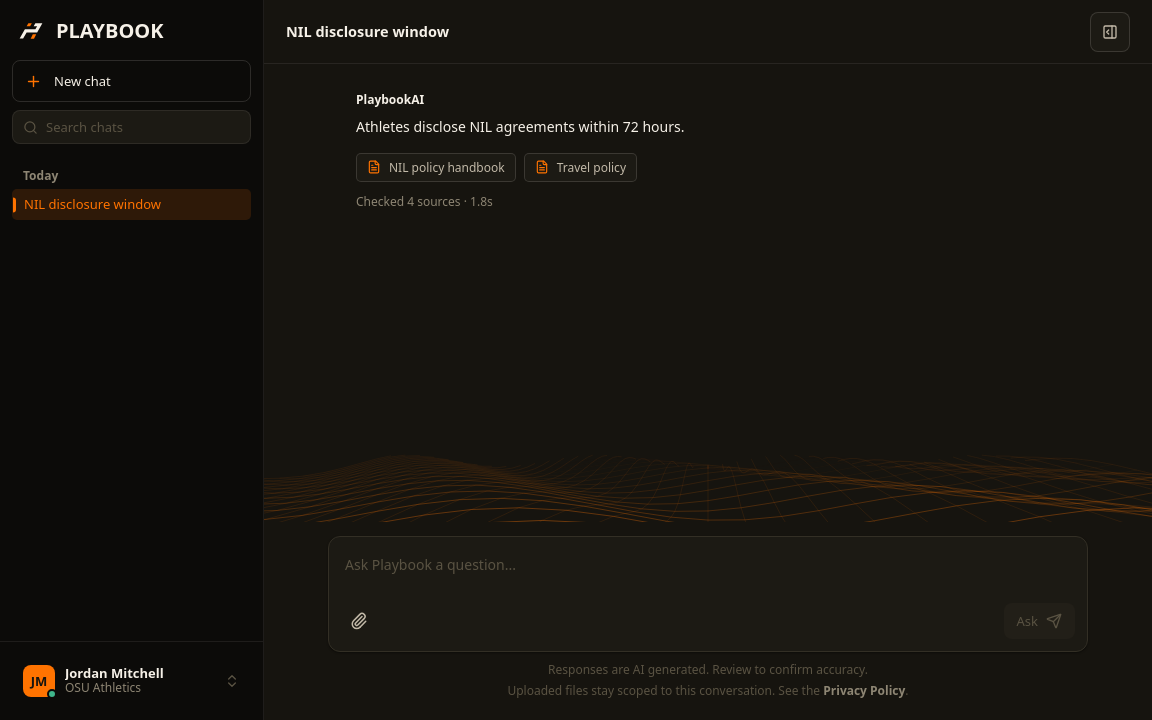
Test: ChatShell › selects citations without opening sources until the expand button is clicked
Click the button "Travel policy": x=580, y=167 [524,153,637,182]
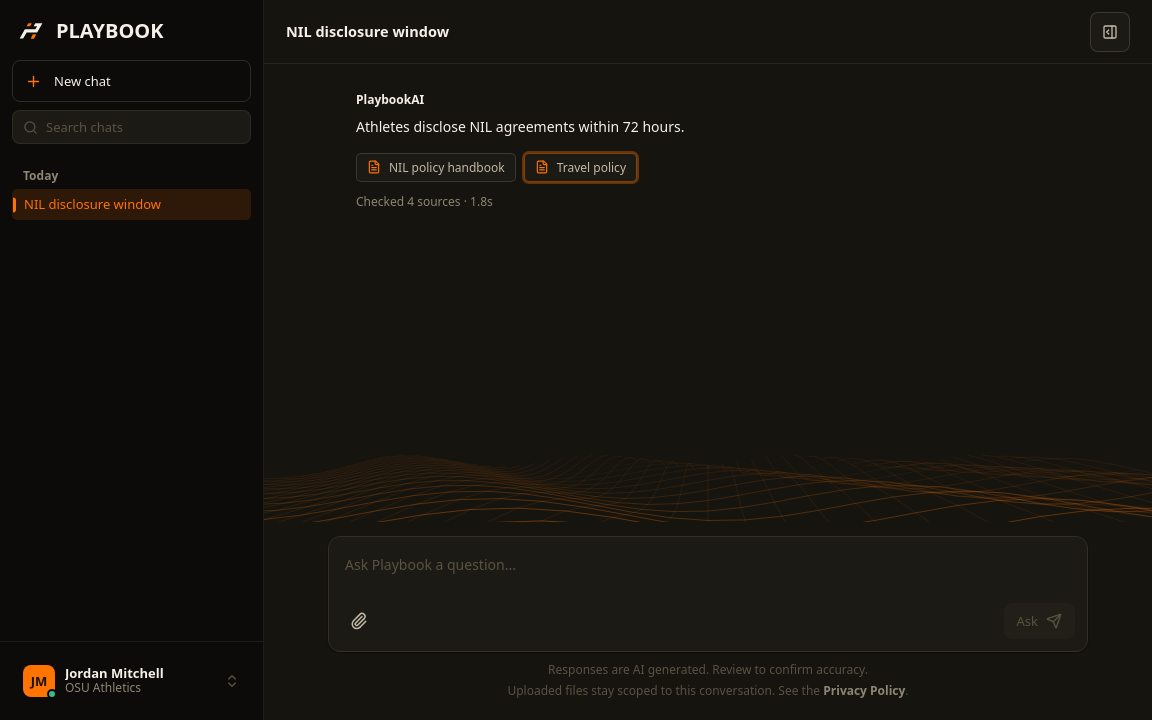
Click the button named "toggle sources": x=1110, y=32 [1090,12,1130,52]
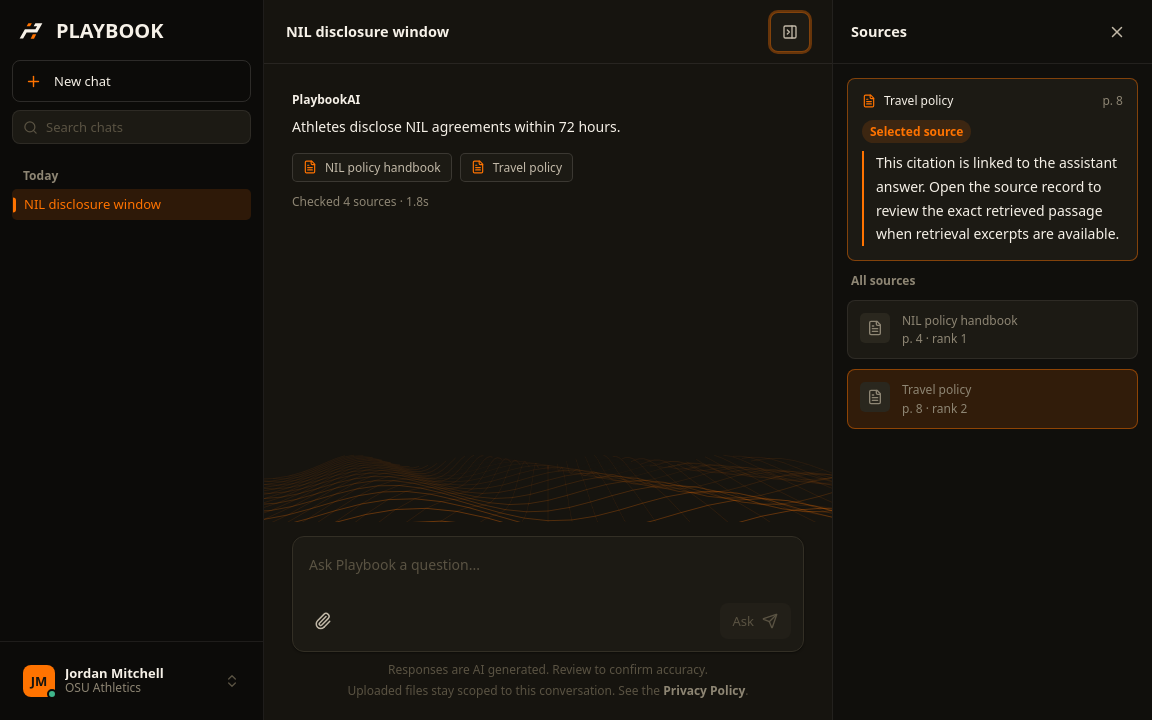
Now the element "Sources" is shown, box [832,0,1151,719]
Now the text "Travel policy" is shown 2 times, box [884,92,953,109]; [902,381,971,398]
Now the text "NIL policy handbook" is shown once, box [902,312,1018,329]
